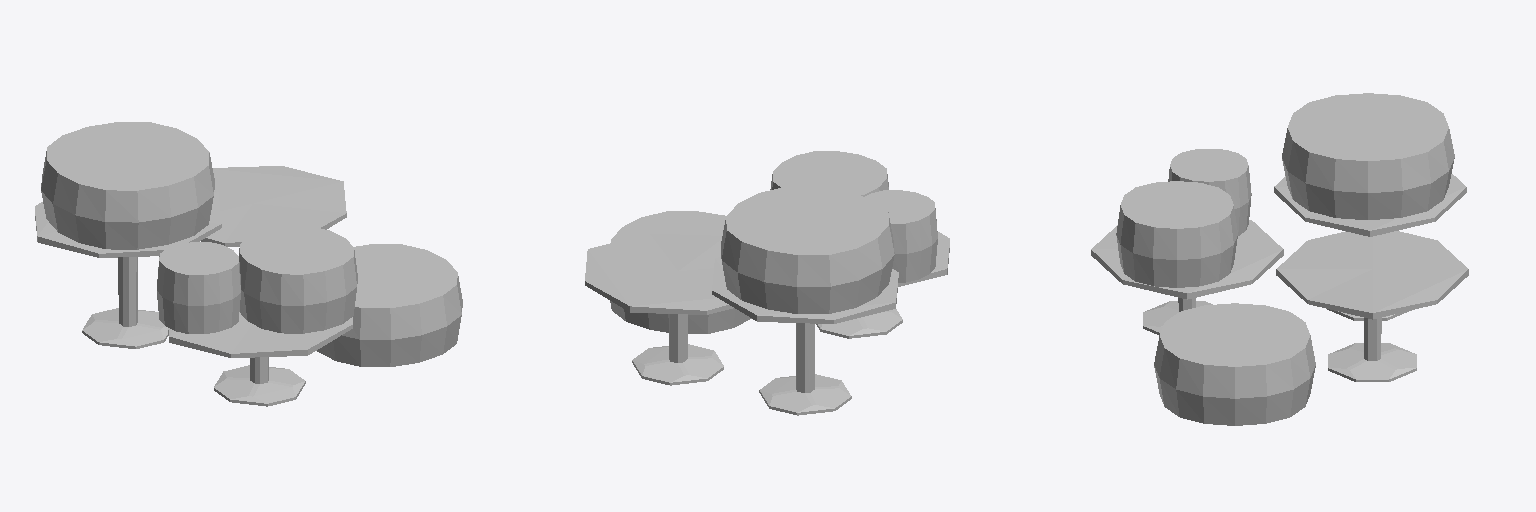
Rendered from cakeCascade2.obj.
3 renders of one model, left to right at view 1: azimuth 30°, elevation 25°; view 2: azimuth 150°, elevation 25°; view 3: azimuth 270°, elevation 25°, orthographic.
Parts seen in each view (by area): view 1: Cake3, Cake1, Cake2.001, Table2.002, Table2.001, Cake2, Table2; view 2: Cake3, Table2.002, Table2, Cake1, Cake2, Cake2.001, Table2.001; view 3: Cake3, Cake1, Table2.002, Cake2.001, Table2.001, Cake2, Table2.
Part boxes in pixels (x1,y1,x2,y2): Cake3: (41, 122, 214, 249); Cake1: (317, 244, 462, 366); Cake2.001: (239, 226, 357, 333); Table2.002: (201, 166, 346, 246); Table2.001: (168, 312, 352, 406); Cake2: (157, 242, 240, 333); Table2: (35, 191, 221, 348); Cake3: (721, 186, 894, 313); Table2.002: (585, 234, 733, 385); Table2: (712, 257, 898, 415); Cake1: (610, 211, 751, 333); Cake2: (865, 190, 937, 282); Cake2.001: (770, 151, 888, 196); Table2.001: (816, 232, 949, 338); Cake3: (1282, 93, 1454, 219); Cake1: (1154, 303, 1315, 425); Table2.002: (1276, 231, 1468, 381); Cake2.001: (1116, 181, 1237, 287); Table2.001: (1091, 220, 1283, 334); Cake2: (1168, 149, 1251, 235); Table2: (1274, 174, 1466, 320).
Size of the model in its own units: 3.87 by 1.88 by 3.66.